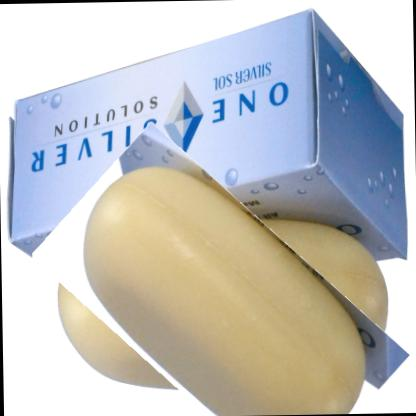soap: (35, 164, 404, 415)
